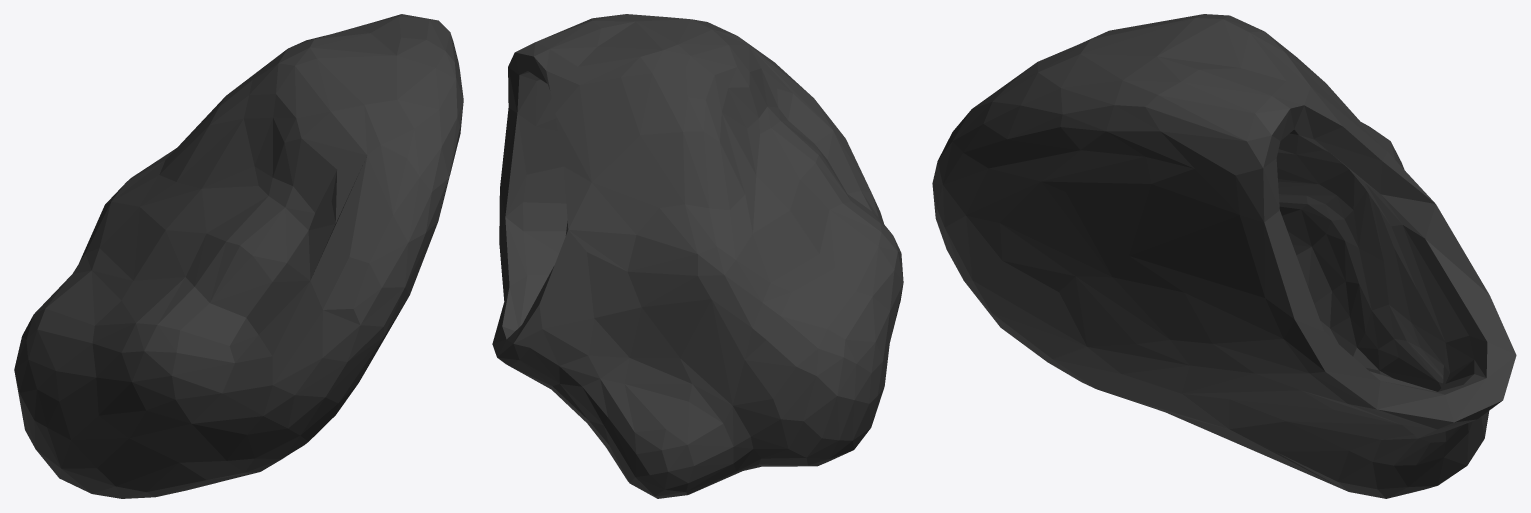
Rendered from Fibula_head.glb.
3 renders of one model, left to right at view 1: azimuth 30°, elevation 25°; view 2: azimuth 150°, elevation 25°; view 3: azimuth 270°, elevation 25°, orthographic. The views are drawn at different scales.
Visible parts, largest first — view 1: Fibula_head; view 2: Fibula_head; view 3: Fibula_head.
Part boxes in pixels (x1,y1,x2,y2): Fibula_head: (14, 14, 463, 498); Fibula_head: (492, 14, 903, 498); Fibula_head: (932, 14, 1516, 498).
Bounding box in the file's own units: 0.0187 × 0.0183 × 0.019.
1 material, 1 textured.
